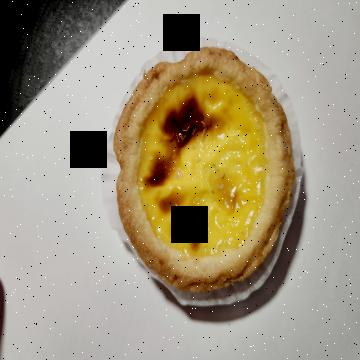EggTart: (113, 45, 294, 291)
